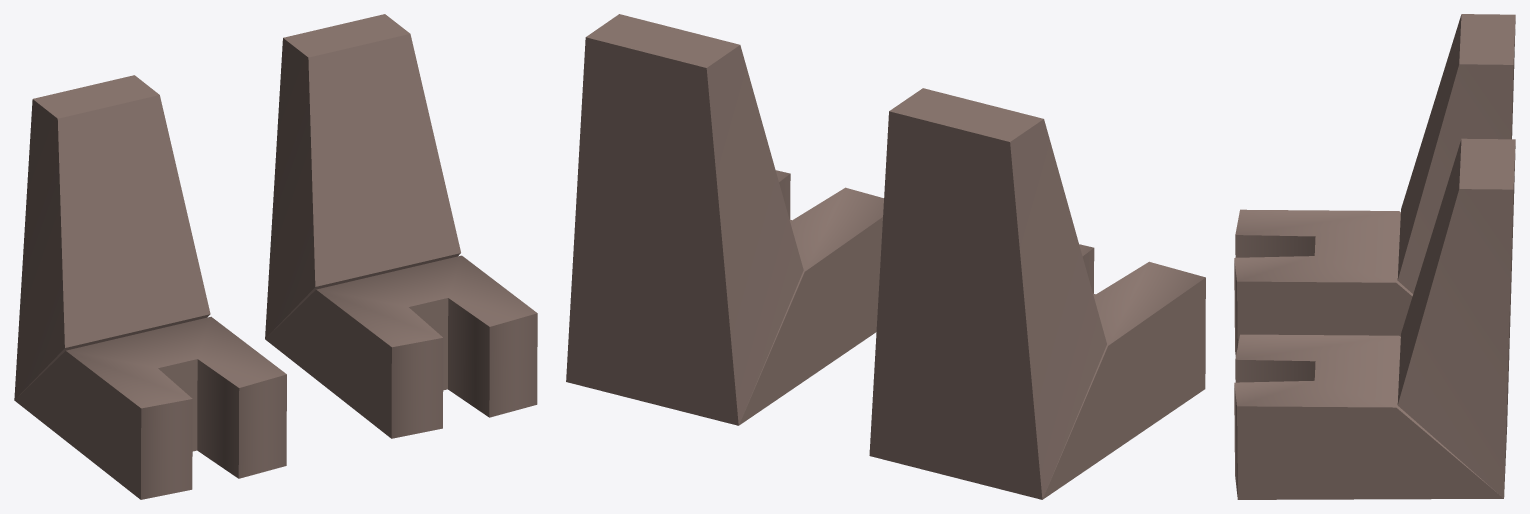
Rendered from m_airlift_ac144e3b.glb.
3 renders of one model, left to right at view 1: azimuth 30°, elevation 25°; view 2: azimuth 150°, elevation 25°; view 3: azimuth 270°, elevation 25°, orthographic. The views are drawn at different scales.
Parts seen in each view (by area): view 1: mesh; view 2: mesh; view 3: mesh.
Boxes of the visible parts, <box> form: mesh: <box>14,14,537,499</box>; mesh: <box>566,14,1205,499</box>; mesh: <box>1234,14,1515,499</box>.
Size of the model in its own units: 1686 by 1196 by 1011.
